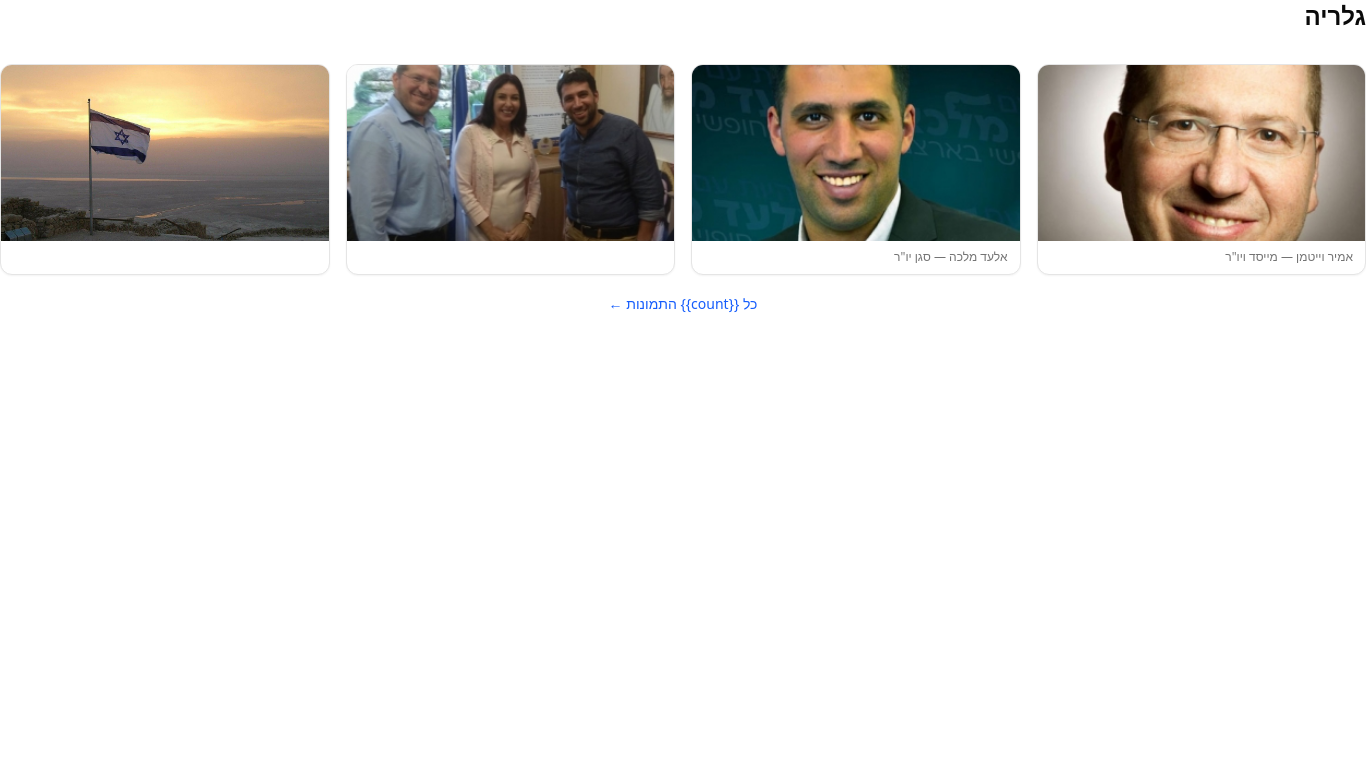
Scenario: GallerySection › opens the lightbox from the view-all control
The width and height of the screenshot is (1366, 768).
What coordinates should you click on to do the following:
click the button with test id "gallery-view-all"
I would click on:
 (683, 304)
Its box is [609,294,757,314].
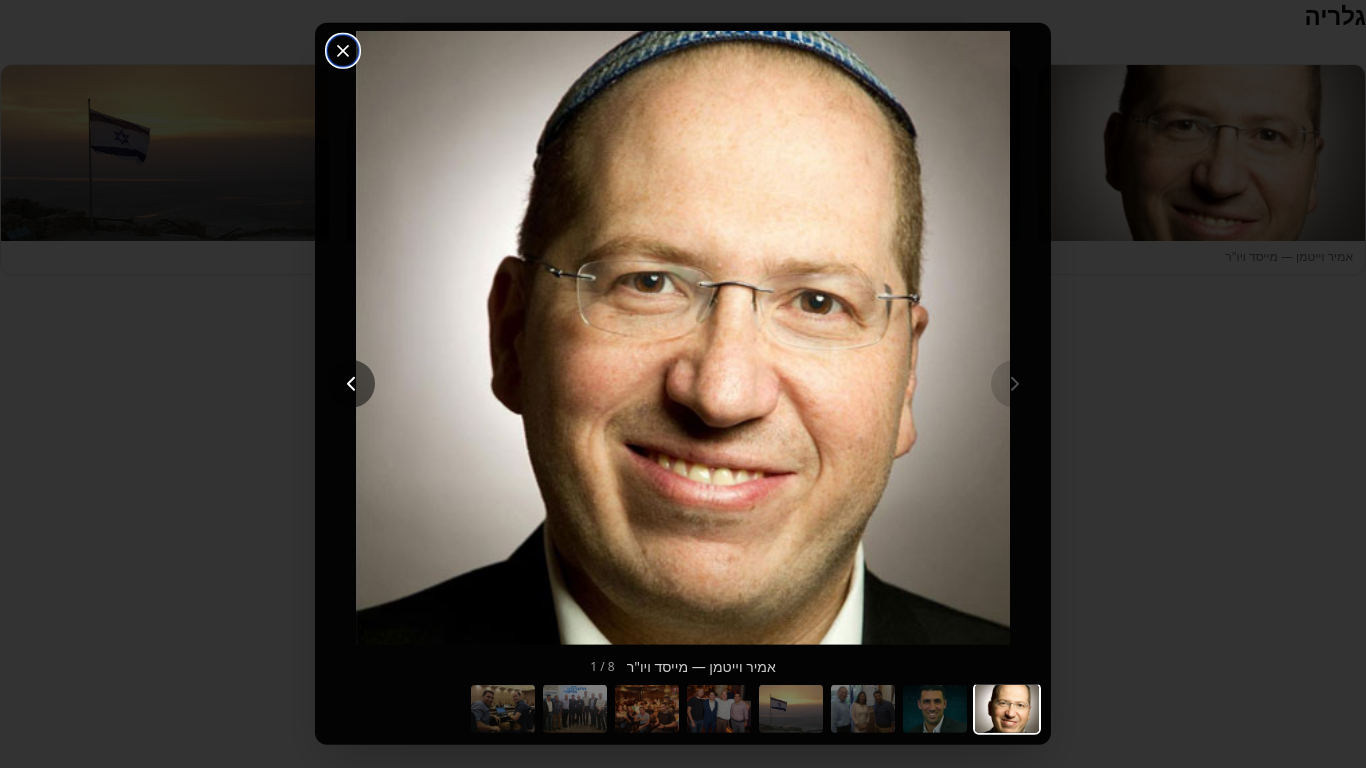
Expected: the button named "Next" is shown, [327,360,375,408]
